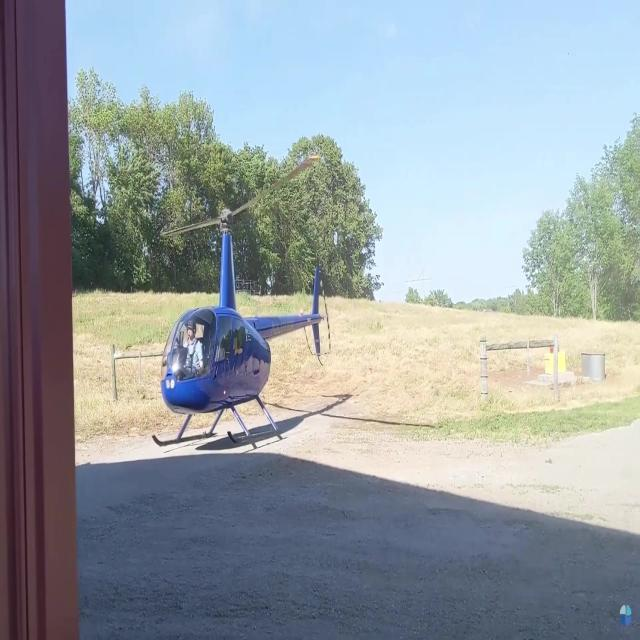CIV_HELO: (152, 207, 320, 447)
